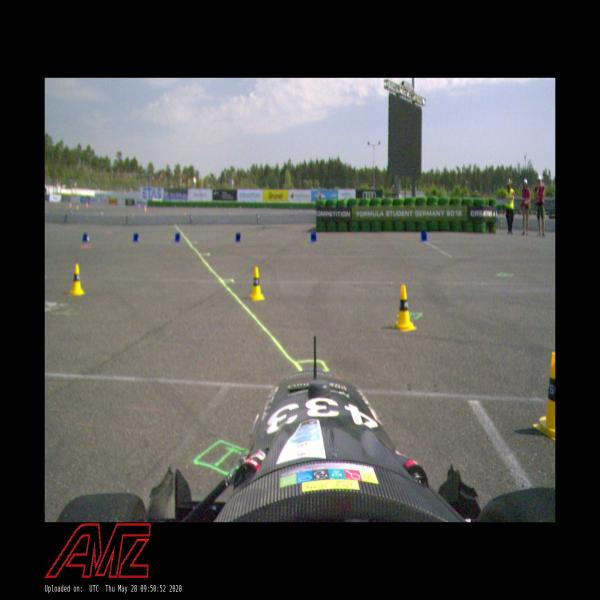blue_cone: (82, 233, 90, 242)
yellow_cone: (535, 351, 555, 441), (393, 284, 416, 332), (248, 266, 266, 301), (68, 263, 85, 296)
